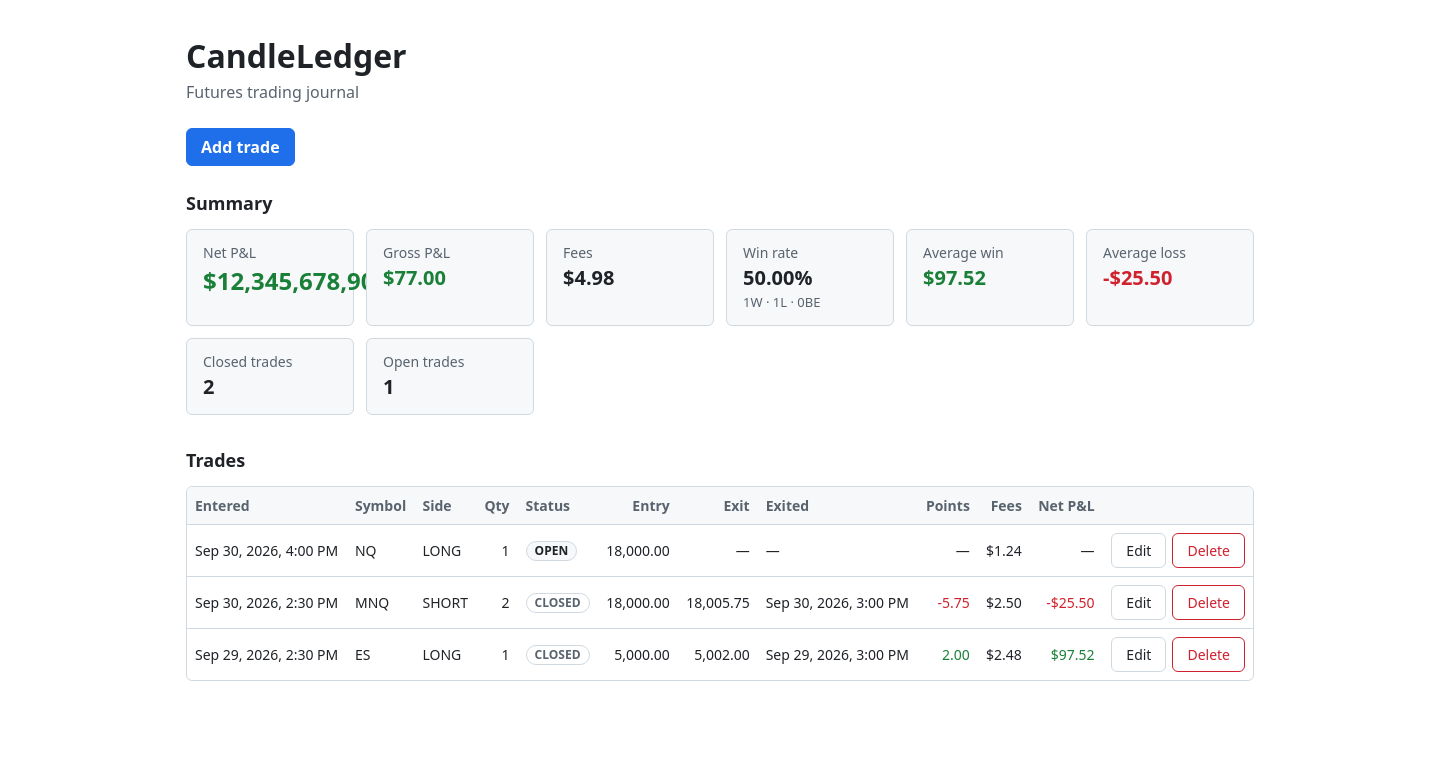
Test case: Edit trade › shows a general error for a failure that is not a validation error
Expected: the table is shown, top-left (187, 486), bottom-right (1253, 680)
Click the button with aria-label "Edit MNQ SHORT": click(1139, 602) top-left (1111, 584), bottom-right (1166, 620)
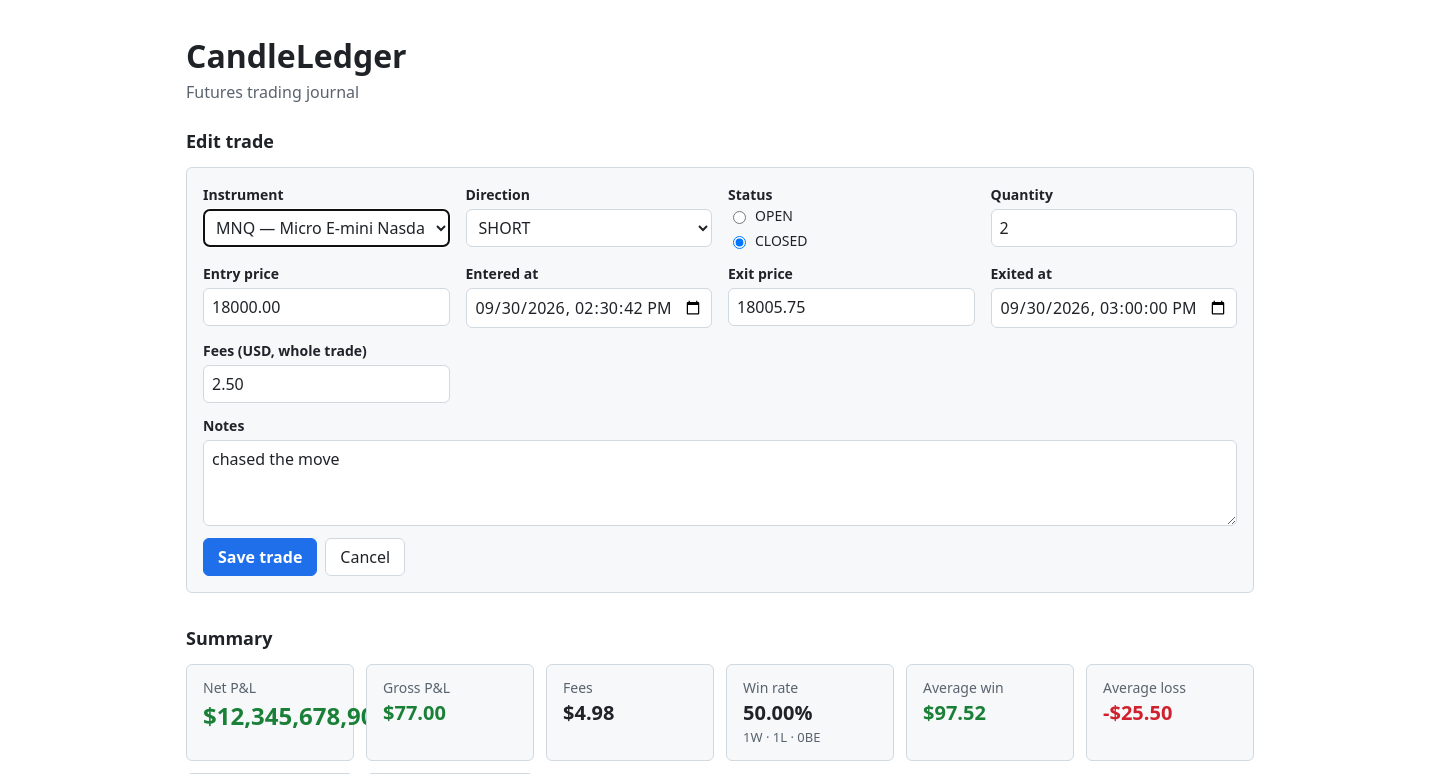
Click the button "Save trade": click(260, 557) top-left (203, 538), bottom-right (317, 576)
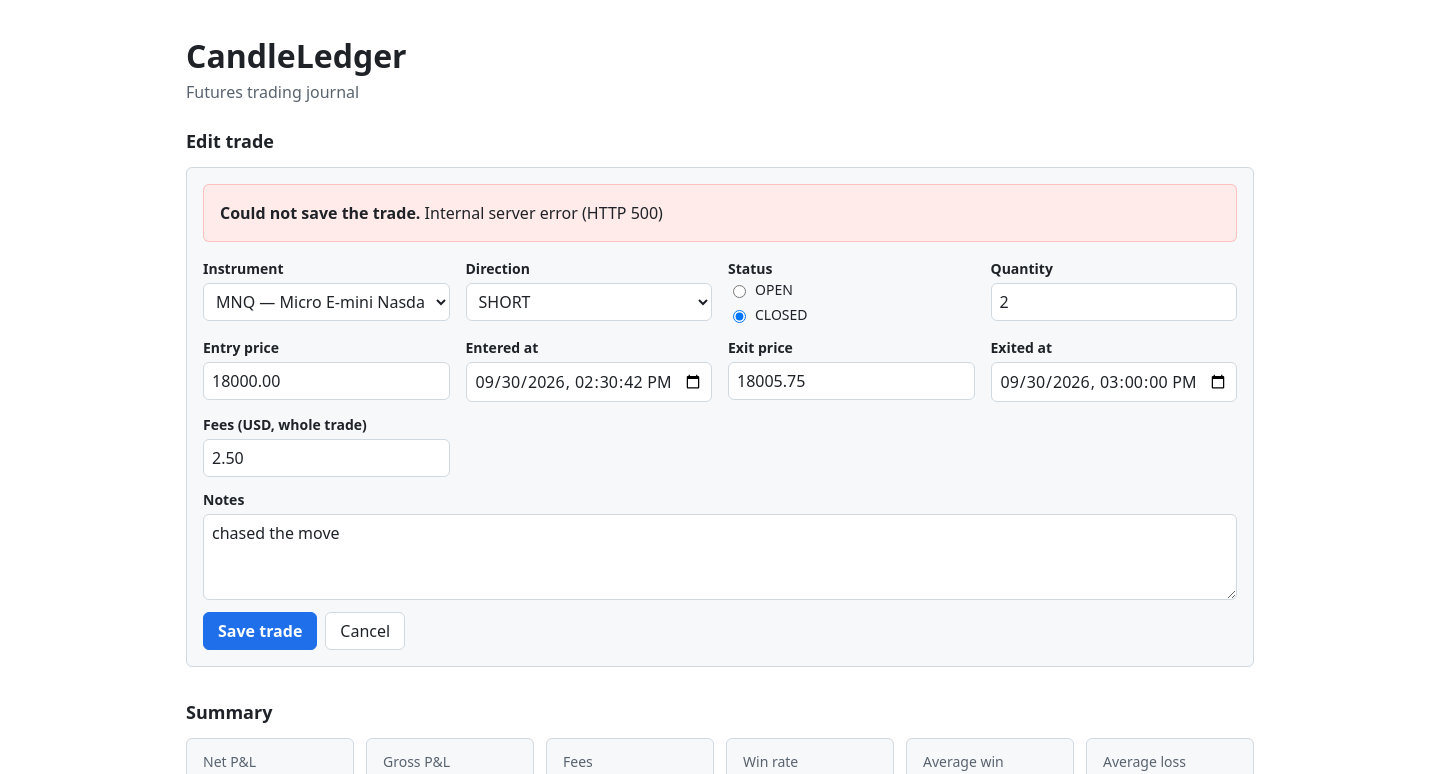
Now the element "Edit trade" is shown, box top-left (186, 128), bottom-right (1254, 667)
Now the message reads "Could not save the trade. Internal server error (HTTP 500)", box top-left (203, 184), bottom-right (1237, 242)
